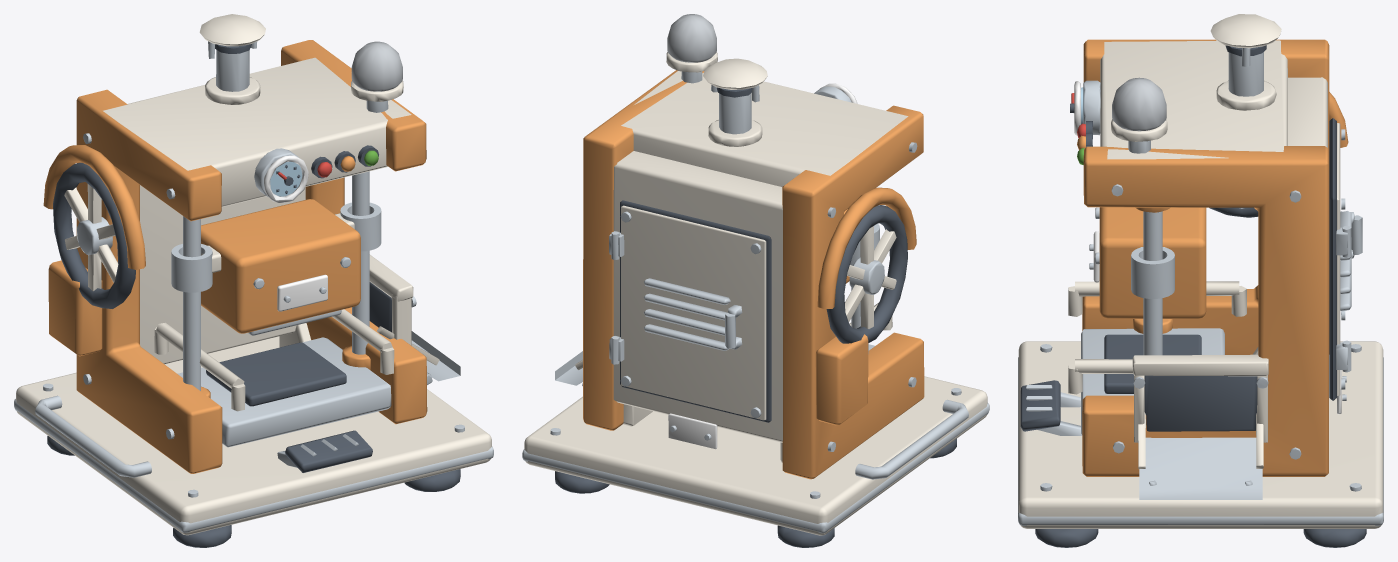
The model's file is fine_machine_press.glb.
The picture shows the model from 3 angles, left to right: view 1: azimuth 30°, elevation 25°; view 2: azimuth 150°, elevation 25°; view 3: azimuth 270°, elevation 25°; orthographic projection. The views are drawn at different scales.
Parts seen in each view (by area): view 1: fine_machine_press_structure, press, lamp; view 2: fine_machine_press_structure, lamp; view 3: fine_machine_press_structure, press, lamp.
Boxes of the visible parts, box(x1,y1,x2,y2) form: fine_machine_press_structure: box(14, 14, 493, 547); press: box(171, 199, 381, 335); lamp: box(351, 41, 402, 91); fine_machine_press_structure: box(522, 52, 989, 547); lamp: box(667, 14, 716, 62); fine_machine_press_structure: box(1018, 14, 1383, 547); press: box(1089, 207, 1206, 318); lamp: box(1112, 77, 1166, 131).
Bounding box in the file's own units: 3.2 × 3.66 × 2.67.
